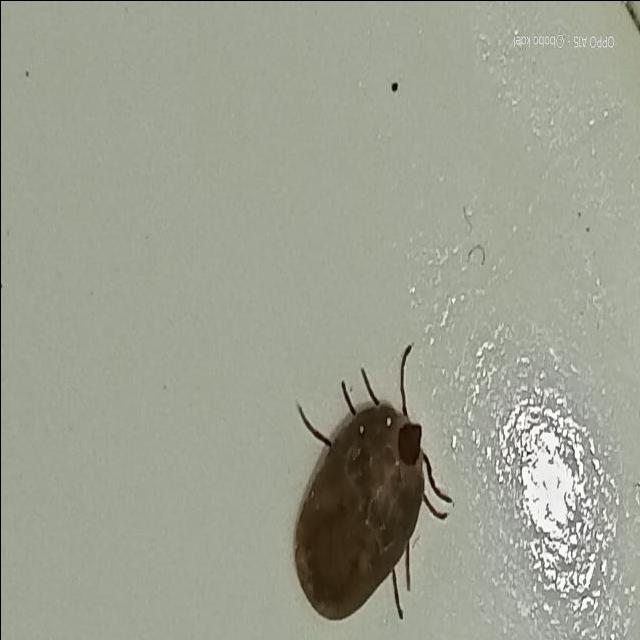Rhipicephalus Sanguineus-F-Fed: (291, 342, 454, 620)
